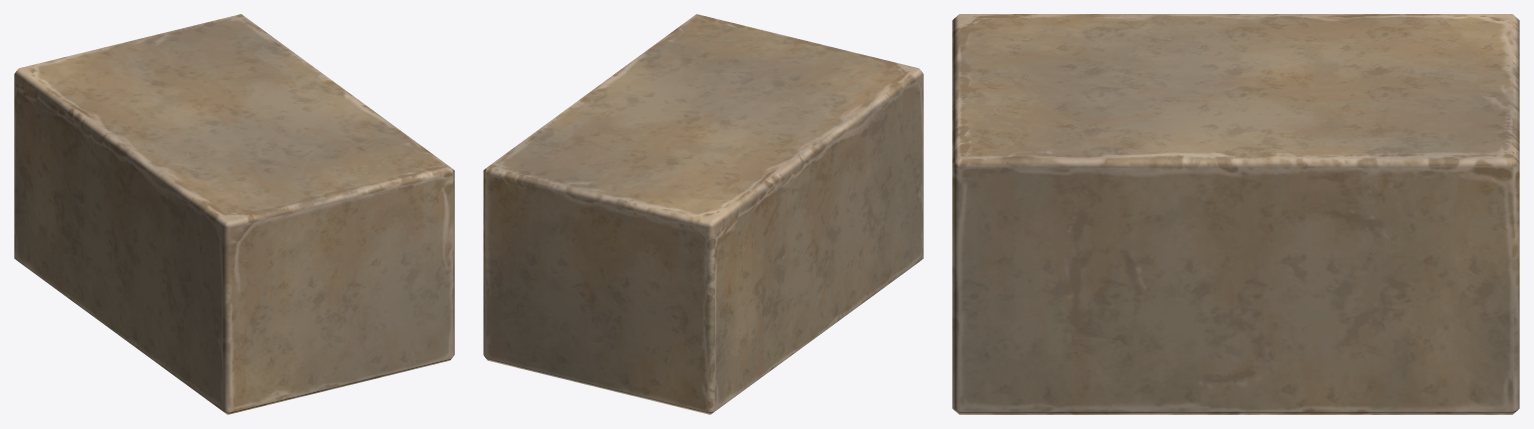
Rendered from SM_construction_block_01.gltf.
3 views of the same model, side by side, from view 1: azimuth 30°, elevation 25°; view 2: azimuth 150°, elevation 25°; view 3: azimuth 270°, elevation 25° (orthographic). The views are drawn at different scales.
Parts seen in each view (by area): view 1: SM_construction_block_01; view 2: SM_construction_block_01; view 3: SM_construction_block_01.
Part boxes in pixels (x1,y1,x2,y2): SM_construction_block_01: (14, 14, 454, 414); SM_construction_block_01: (483, 14, 923, 414); SM_construction_block_01: (952, 14, 1519, 414).
Size of the model in its own units: 1.5 by 1.2 by 2.4.
Materials: 1 (1 with a texture image).
